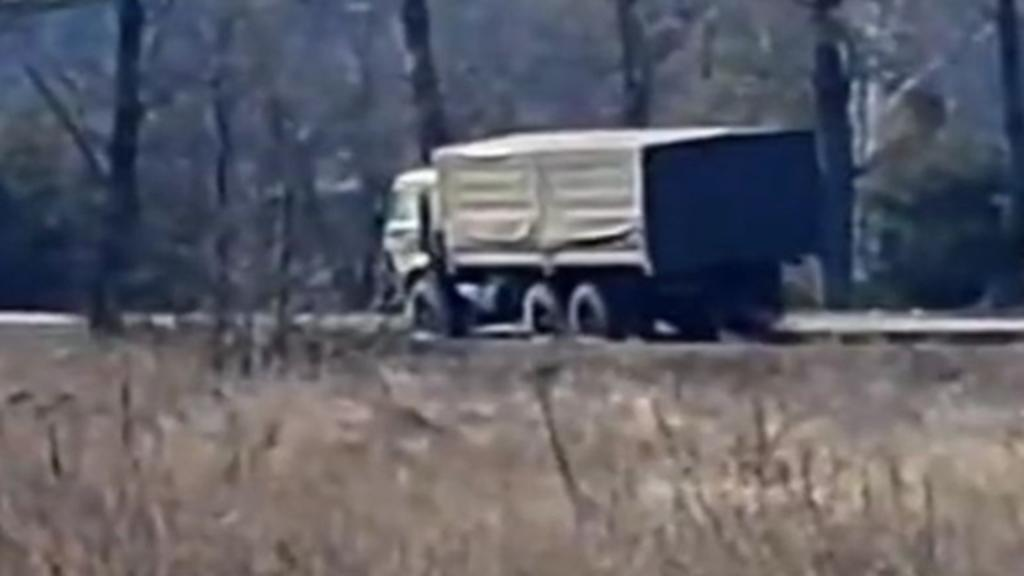TRUCK: (372, 120, 826, 356)
